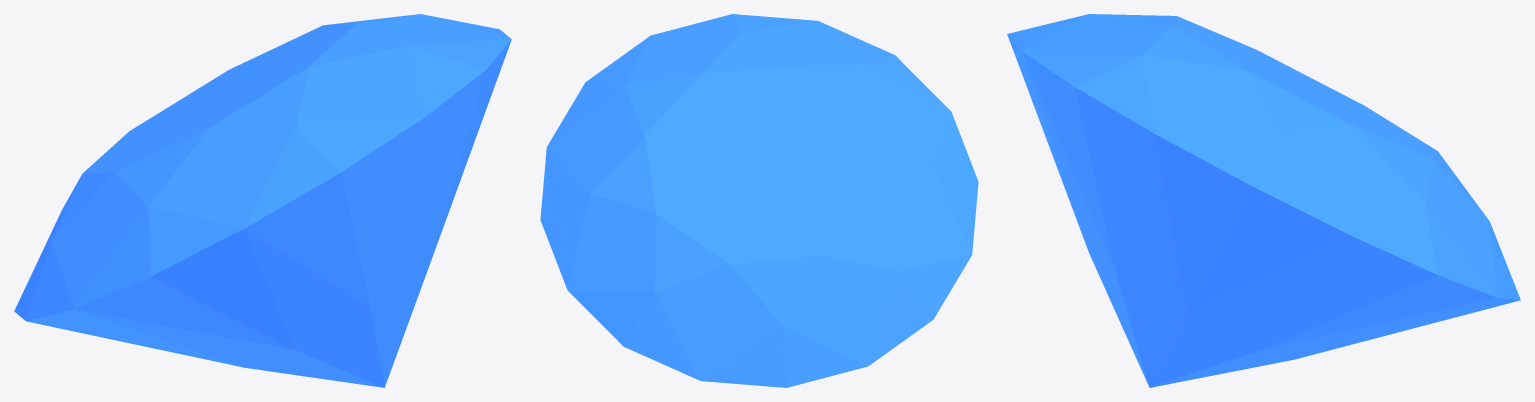
File: SM_Gem_Sapphire.fbx
3 renders of one model, left to right at view 1: azimuth 30°, elevation 25°; view 2: azimuth 150°, elevation 25°; view 3: azimuth 270°, elevation 25°, orthographic. The views are drawn at different scales.
Parts seen in each view (by area): view 1: SM_Gem_Sapphire; view 2: SM_Gem_Sapphire; view 3: SM_Gem_Sapphire.
Part boxes in pixels (<box>): SM_Gem_Sapphire: <box>14,14,511,387</box>; SM_Gem_Sapphire: <box>540,14,978,387</box>; SM_Gem_Sapphire: <box>1007,14,1520,387</box>.
Bounding box in the file's own units: 1.18 × 0.8244 × 1.12.
1 material, 1 textured.
